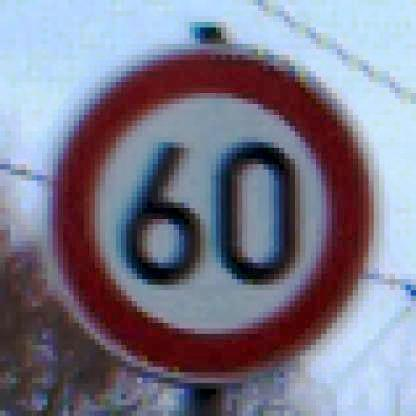Speed Limit -60-: (40, 42, 382, 385)
